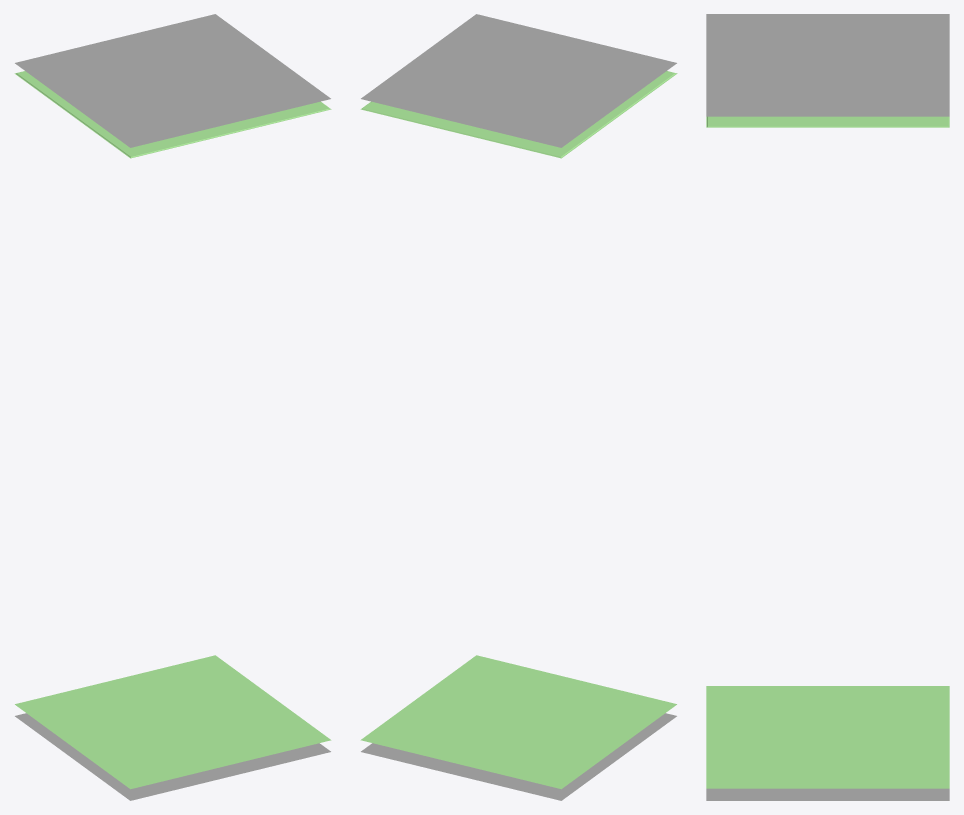
Rendered from Room_1x1_no_walls_geo.fbx.
The picture shows the model from 3 angles, left to right: view 1: azimuth 30°, elevation 25°; view 2: azimuth 150°, elevation 25°; view 3: azimuth 270°, elevation 25°; orthographic projection. The views are drawn at different scales.
Visible parts, largest first — view 1: Room_1x1_no_walls_geo; view 2: Room_1x1_no_walls_geo; view 3: Room_1x1_no_walls_geo.
Boxes of the visible parts, left/top/right/bottom form: Room_1x1_no_walls_geo: left=14, top=14, right=331, bottom=800; Room_1x1_no_walls_geo: left=360, top=14, right=677, bottom=800; Room_1x1_no_walls_geo: left=706, top=14, right=949, bottom=800.
Size of the model in its own units: 1 by 3.1 by 1.
